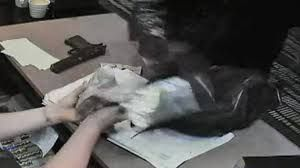gun: (45, 30, 107, 73)
